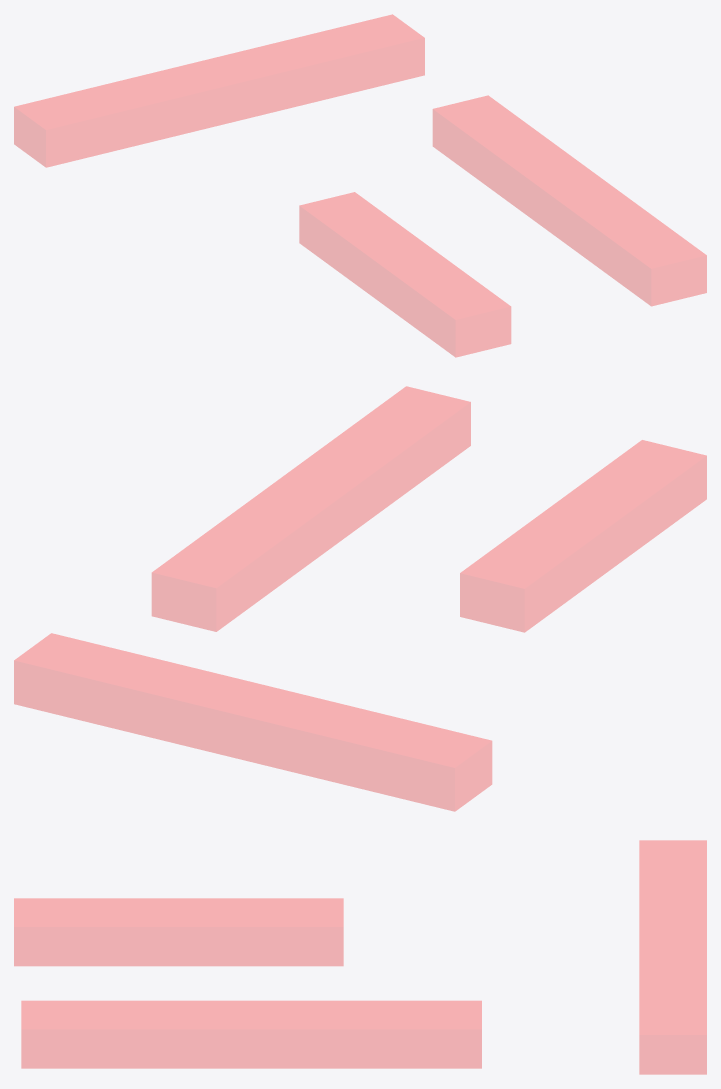
Rendered from s01a_td2-obstacles.glb.
3 renders of one model, top to bottom at view 1: azimuth 30°, elevation 25°; view 2: azimuth 150°, elevation 25°; view 3: azimuth 270°, elevation 25°, orthographic. The views are drawn at different scales.
Visible parts, largest first — view 1: boulder-colonly (×3); view 2: boulder-colonly (×3); view 3: boulder-colonly (×3).
Boxes of the visible parts, left/top/right/bottom form: boulder-colonly (×3): left=14, top=14, right=706, bottom=357; boulder-colonly (×3): left=14, top=386, right=706, bottom=811; boulder-colonly (×3): left=14, top=840, right=706, bottom=1074.
Bounding box in the file's own units: 21.1 × 2 × 31.75.
